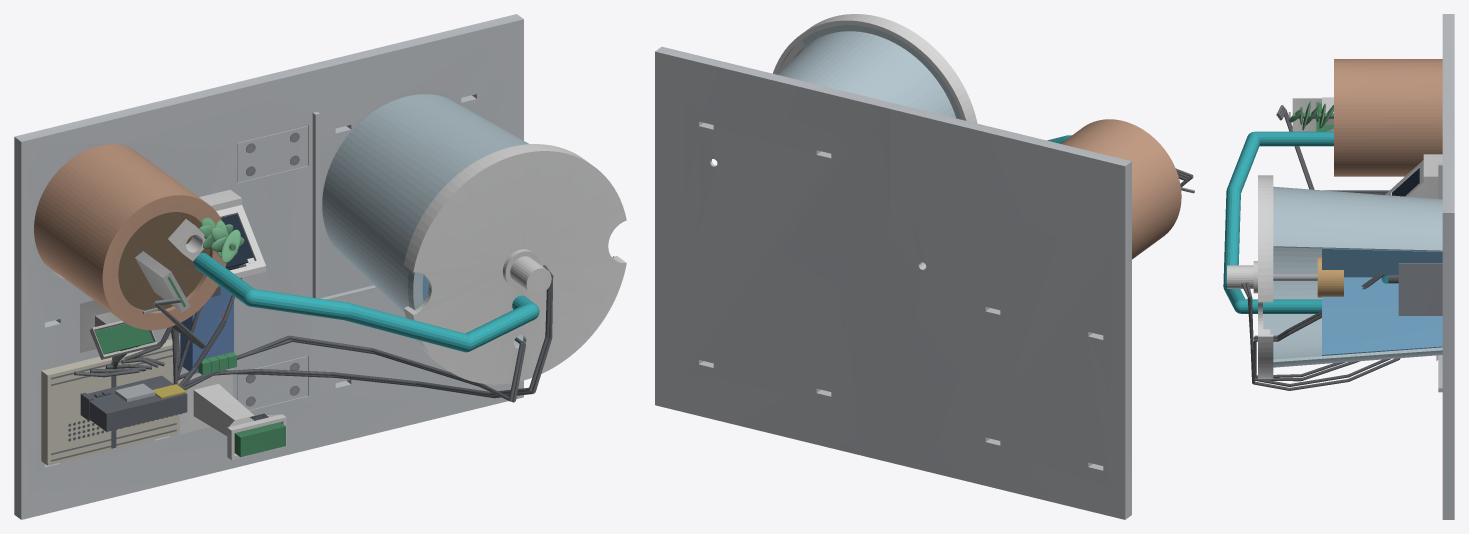
File: 花房整机示意模型.glb
The picture shows the model from 3 angles, left to right: view 1: azimuth 30°, elevation 25°; view 2: azimuth 150°, elevation 25°; view 3: azimuth 270°, elevation 25°; orthographic projection. The views are drawn at different scales.
Parts seen in each view (by area): view 1: 01_底盘右片, 00_底盘左片, 16_水箱盖, 14_水箱, 04_花盆, 31_面包板, 23_水管, 05_土壤, 34_DHT11 座, 32_ESP32, 02_连接块, 33_继电器 (+13 smaller); view 2: 00_底盘左片, 01_底盘右片, 14_水箱, 04_花盆, 16_水箱盖; view 3: 14_水箱, 04_花盆, 15_水体, 01_底盘右片, 23_水管, 16_水箱盖, 21_水泵, 00_底盘左片, 27_OLED 45°支架, 91_跳线25, 20_浮子, 77_跳线11 (+7 smaller).
Part boxes in pixels (x1,y1,x2,y2): 01_底盘右片: [266, 14, 523, 458]; 00_底盘左片: [14, 75, 272, 519]; 16_水箱盖: [404, 144, 626, 384]; 14_水箱: [322, 94, 529, 346]; 04_花盆: [34, 144, 226, 330]; 31_面包板: [41, 339, 179, 465]; 23_水管: [193, 253, 539, 352]; 05_土壤: [118, 212, 209, 310]; 34_DHT11 座: [179, 368, 286, 459]; 32_ESP32: [87, 375, 187, 431]; 02_连接块: [237, 126, 307, 182]; 33_继电器: [180, 285, 233, 373]; 00_底盘左片: [890, 104, 1131, 519]; 01_底盘右片: [655, 46, 896, 462]; 14_水箱: [777, 25, 961, 119]; 04_花盆: [1061, 119, 1181, 259]; 16_水箱盖: [773, 14, 977, 123]; 14_水箱: [1263, 186, 1442, 367]; 04_花盆: [1334, 59, 1442, 176]; 15_水体: [1322, 248, 1442, 355]; 01_底盘右片: [1438, 113, 1454, 519]; 23_水管: [1223, 131, 1388, 313]; 16_水箱盖: [1258, 175, 1273, 378]; 21_水泵: [1398, 263, 1442, 315]; 00_底盘左片: [1442, 14, 1454, 113]; 27_OLED 45°支架: [1385, 154, 1442, 198]; 91_跳线25: [1245, 282, 1400, 390]; 20_浮子: [1317, 256, 1343, 297]; 77_跳线11: [1253, 274, 1384, 381].
Bounding box in the file's own units: 320 × 230 × 157.
